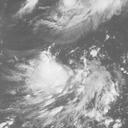cyclone: (21, 49, 114, 116)
